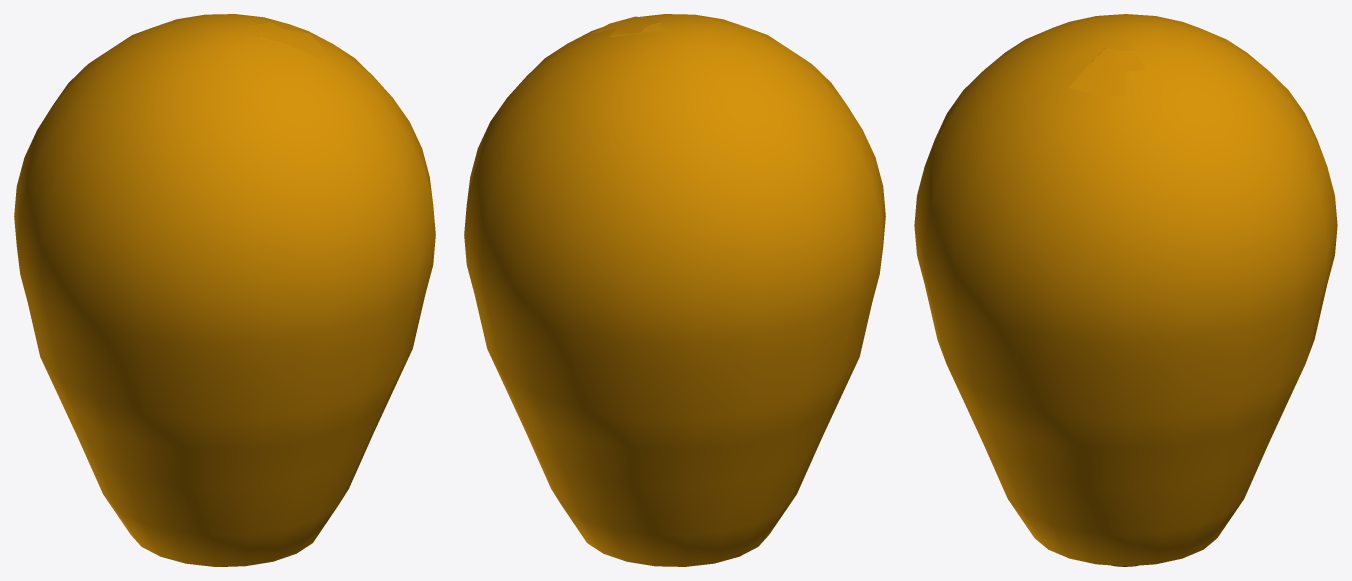
Rendered from mango.fbx.
The picture shows the model from 3 angles, left to right: view 1: azimuth 30°, elevation 25°; view 2: azimuth 150°, elevation 25°; view 3: azimuth 270°, elevation 25°; orthographic projection.
Parts seen in each view (by area): view 1: pSphere1; view 2: pSphere1; view 3: pSphere1.
Part boxes in pixels (<box>): pSphere1: <box>14,14,435,566</box>; pSphere1: <box>464,14,885,566</box>; pSphere1: <box>914,14,1337,566</box>.
Bounding box in the file's own units: 2 × 2.72 × 2.
